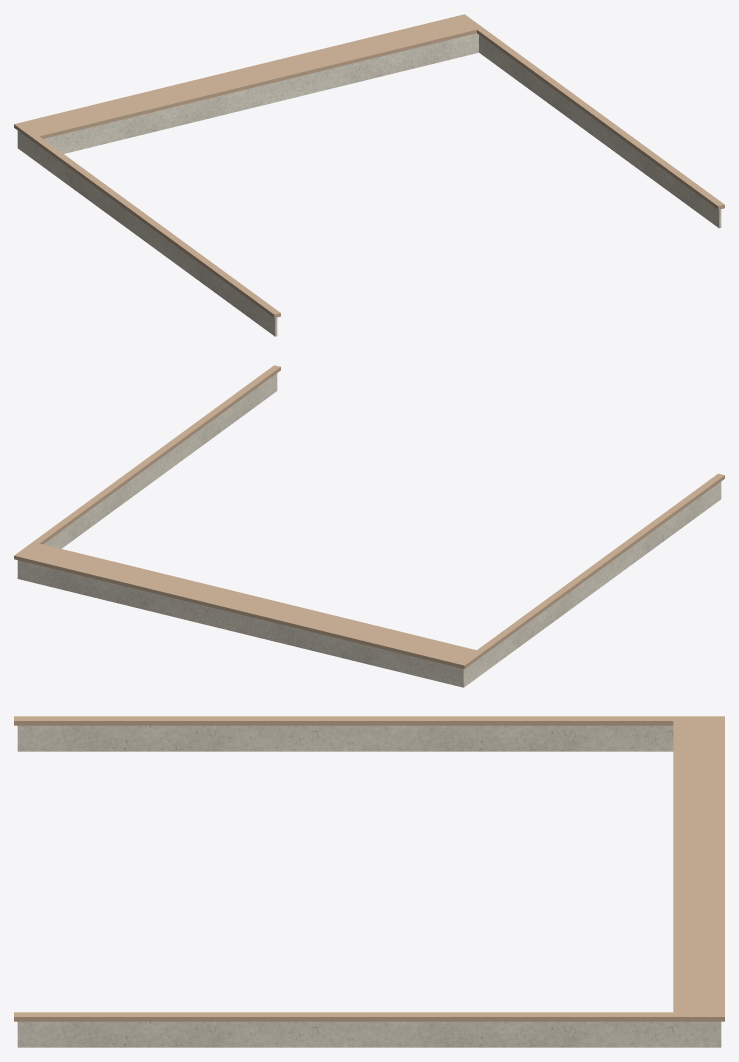
The model's file is stair_core_slab_192_192_29.glb.
3 renders of one model, top to bottom at view 1: azimuth 30°, elevation 25°; view 2: azimuth 150°, elevation 25°; view 3: azimuth 270°, elevation 25°, orthographic. The views are drawn at different scales.
Visible parts, largest first — view 1: stair_core_slab_192_192_29_plaster, stair_core_slab_192_192_29_floor; view 2: stair_core_slab_192_192_29_plaster, stair_core_slab_192_192_29_floor; view 3: stair_core_slab_192_192_29_plaster, stair_core_slab_192_192_29_floor.
Part boxes in pixels (x1=…): stair_core_slab_192_192_29_plaster: x1=17, y1=33, x2=721, y2=336; stair_core_slab_192_192_29_floor: x1=14, y1=14, x2=724, y2=318; stair_core_slab_192_192_29_plaster: x1=17, y1=373, x2=721, y2=687; stair_core_slab_192_192_29_floor: x1=14, y1=365, x2=724, y2=669; stair_core_slab_192_192_29_plaster: x1=17, y1=725, x2=721, y2=1047; stair_core_slab_192_192_29_floor: x1=14, y1=716, x2=724, y2=1021.
Bounding box in the file's own units: 4 × 0.2 × 4.
Materials: 2 (1 with a texture image).
